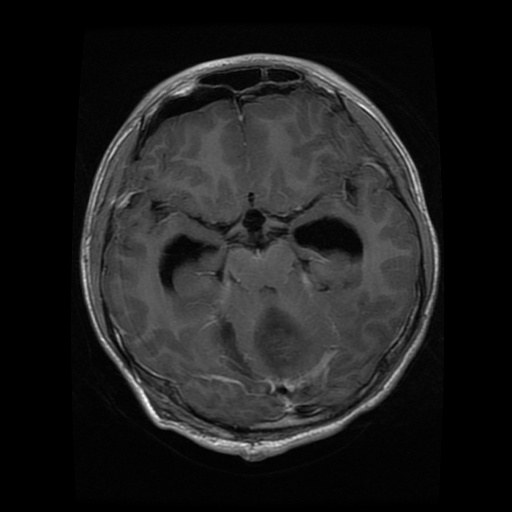glioma: (252, 305, 312, 376)
